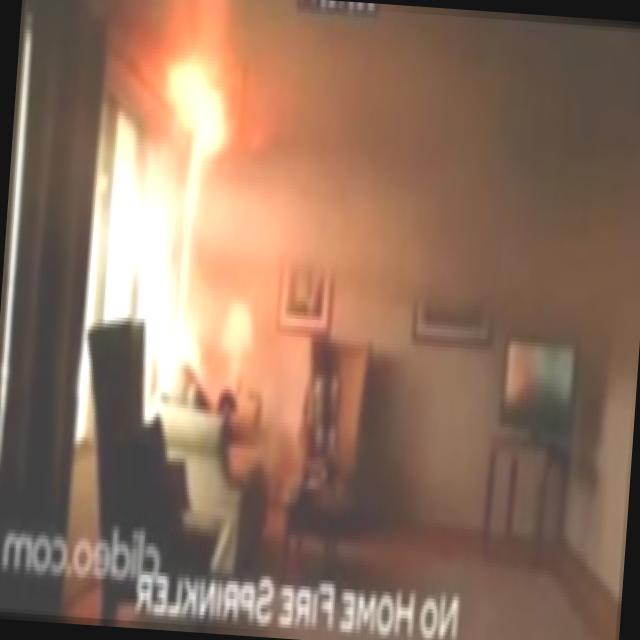fire: (135, 0, 267, 375)
